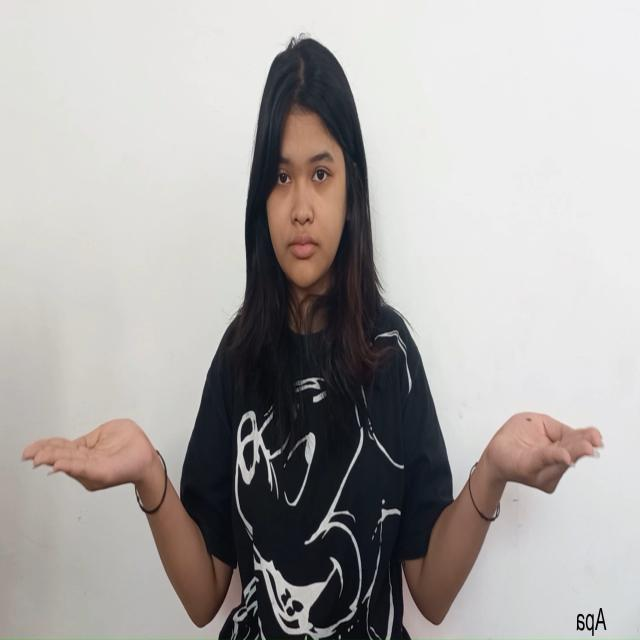Apa -BISINDO-: (21, 406, 606, 501)
